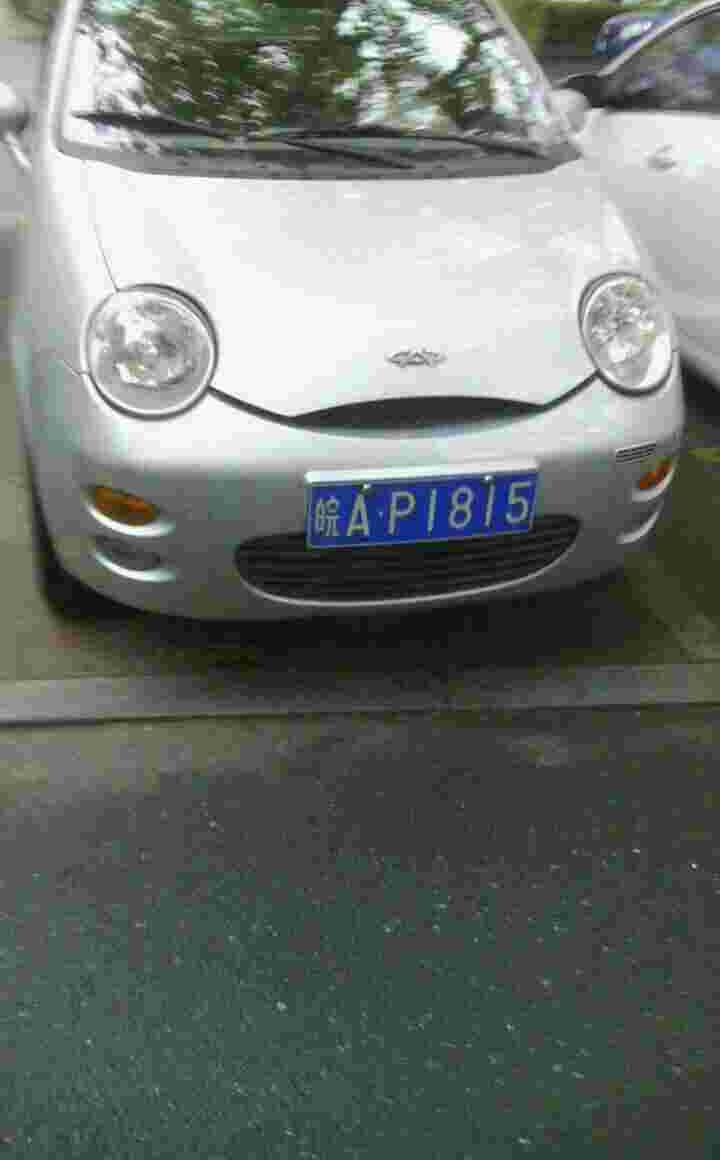license_plate: (310, 470, 535, 556)
